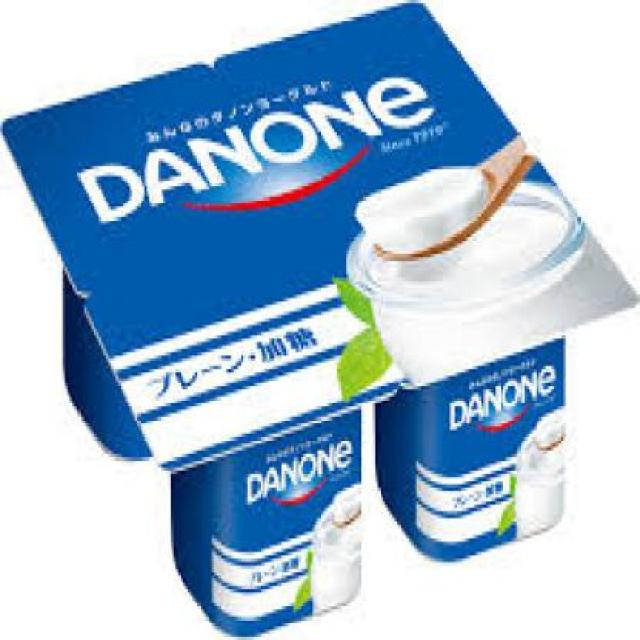PLASTIC: (0, 0, 638, 638), (81, 230, 397, 636), (358, 153, 636, 562)
